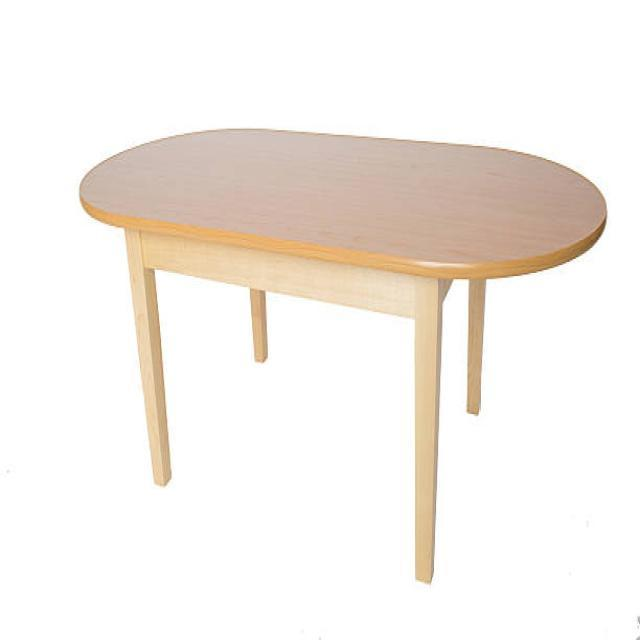table: (78, 126, 608, 584)
